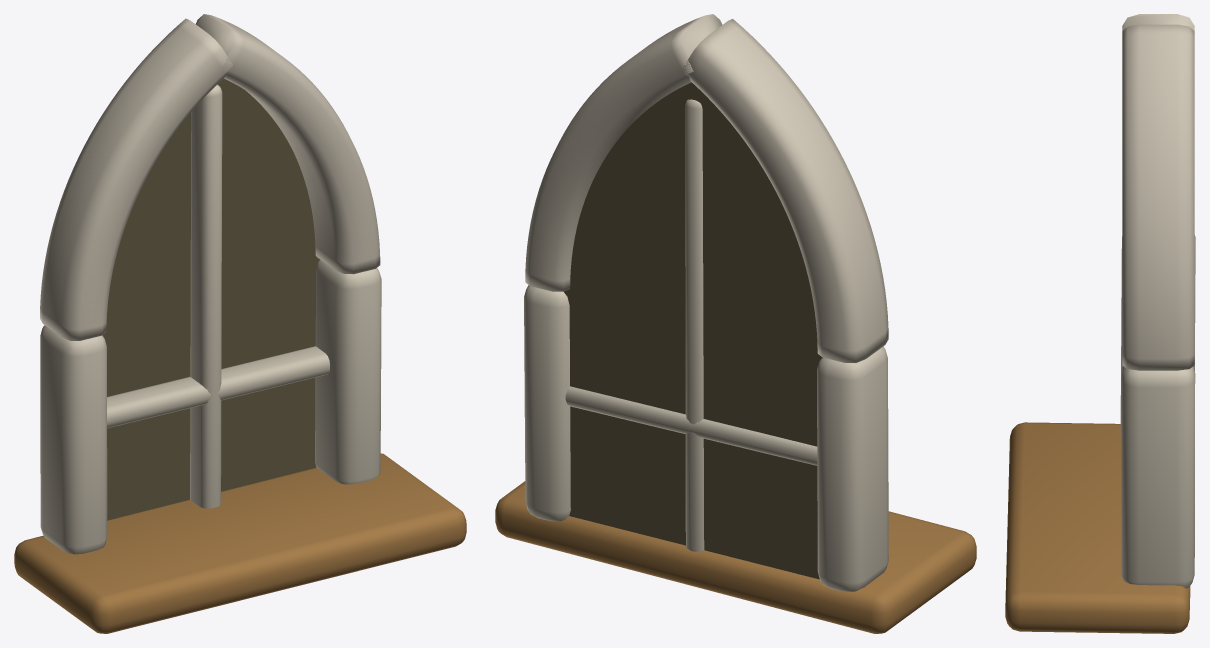
File: tg_window_gothic.glb
3 renders of one model, left to right at view 1: azimuth 30°, elevation 25°; view 2: azimuth 150°, elevation 25°; view 3: azimuth 270°, elevation 25°, orthographic. The views are drawn at different scales.
Visible parts, largest first — view 1: window_tg_gothic, Glow; view 2: window_tg_gothic, Glow; view 3: window_tg_gothic.
Part boxes in pixels (<box>): window_tg_gothic: <box>14,14,466,633</box>; Glow: <box>102,78,319,520</box>; window_tg_gothic: <box>495,14,976,633</box>; Glow: <box>564,82,822,579</box>; window_tg_gothic: <box>1005,14,1195,633</box>.
Size of the model in its own units: 0.9543 by 1.27 by 0.4132.
